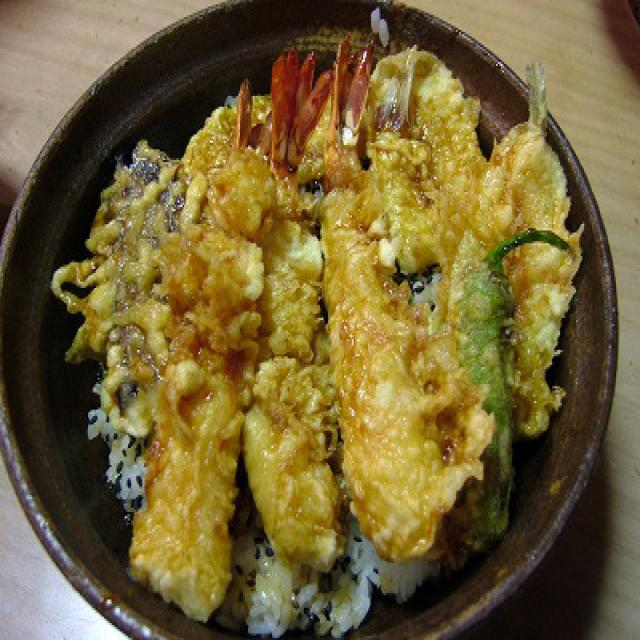熟制海鲜: (0, 0, 622, 640)
